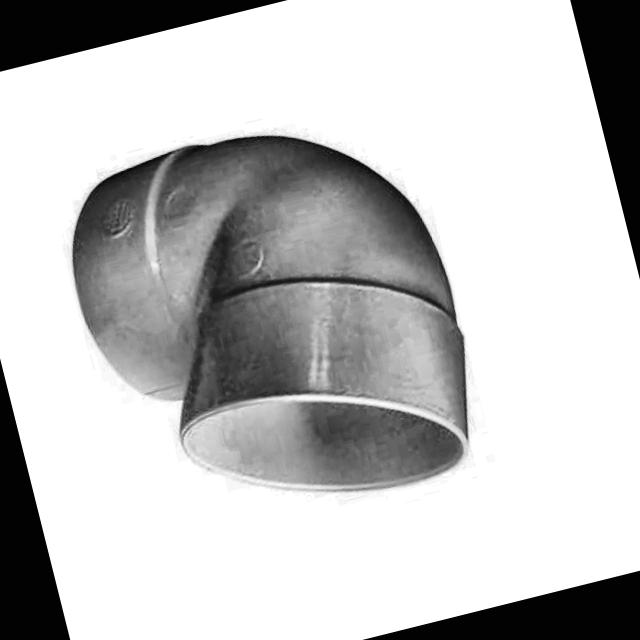ELBOW90: (68, 133, 467, 494)
